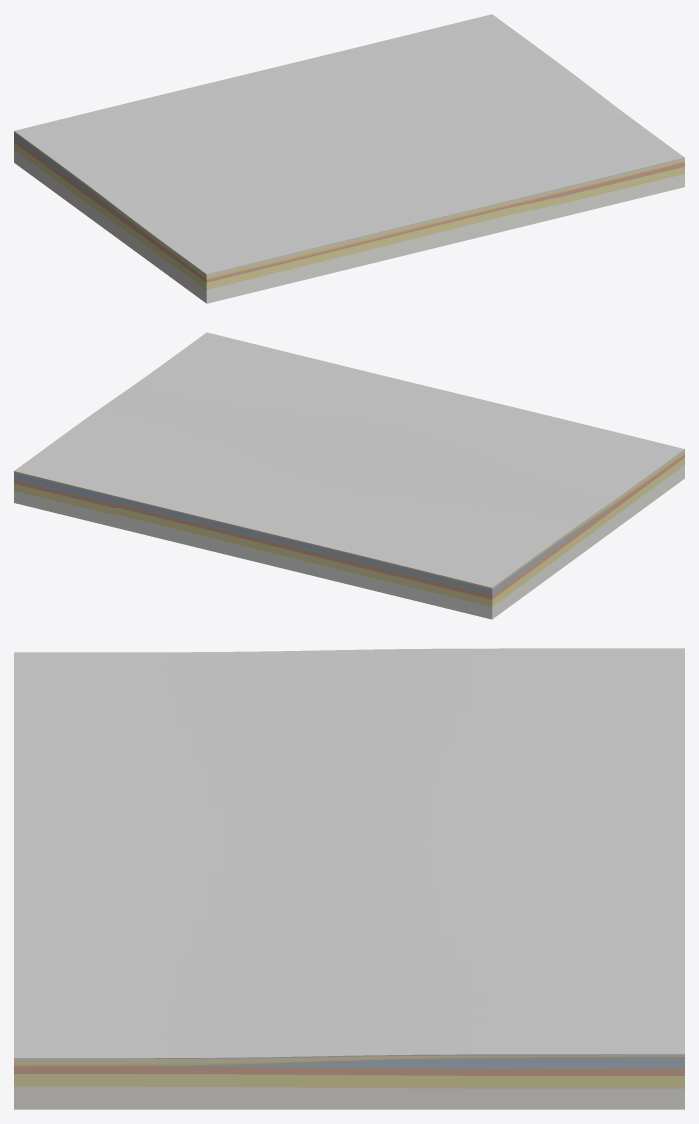
File: model_units.glb
3 views of the same model, one above another, from view 1: azimuth 30°, elevation 25°; view 2: azimuth 150°, elevation 25°; view 3: azimuth 270°, elevation 25° (orthographic). The views are drawn at different scales.
Parts seen in each view (by area): view 1: MGR, CK, TAB, LMBE, ALV, RTDU; view 2: MGR, CK, TAB, LMBE, LC, RTDU, HWH, ALV; view 3: MGR, CK, TAB, LMBE, LC, ALV, RTDU, HWH.
Boxes of the visible parts, x1,y1,x2,y2 form: MGR: (14, 14, 684, 274); CK: (14, 150, 684, 303); TAB: (14, 143, 684, 289); LMBE: (14, 138, 684, 282); ALV: (14, 131, 684, 277); RTDU: (14, 132, 684, 279); MGR: (14, 332, 684, 587); CK: (14, 465, 684, 619); TAB: (14, 458, 684, 606); LMBE: (14, 454, 684, 599); LC: (14, 473, 602, 593); RTDU: (14, 453, 684, 589); HWH: (14, 478, 617, 594); ALV: (16, 449, 684, 588); MGR: (14, 648, 684, 1058); CK: (14, 1086, 684, 1109); TAB: (14, 1074, 684, 1088); LMBE: (14, 1066, 684, 1075); LC: (187, 1057, 684, 1067); ALV: (14, 1055, 684, 1063); RTDU: (14, 1055, 684, 1066); HWH: (32, 1065, 684, 1068).
Size of the model in its own units: 1260 by 80.42 by 880.
